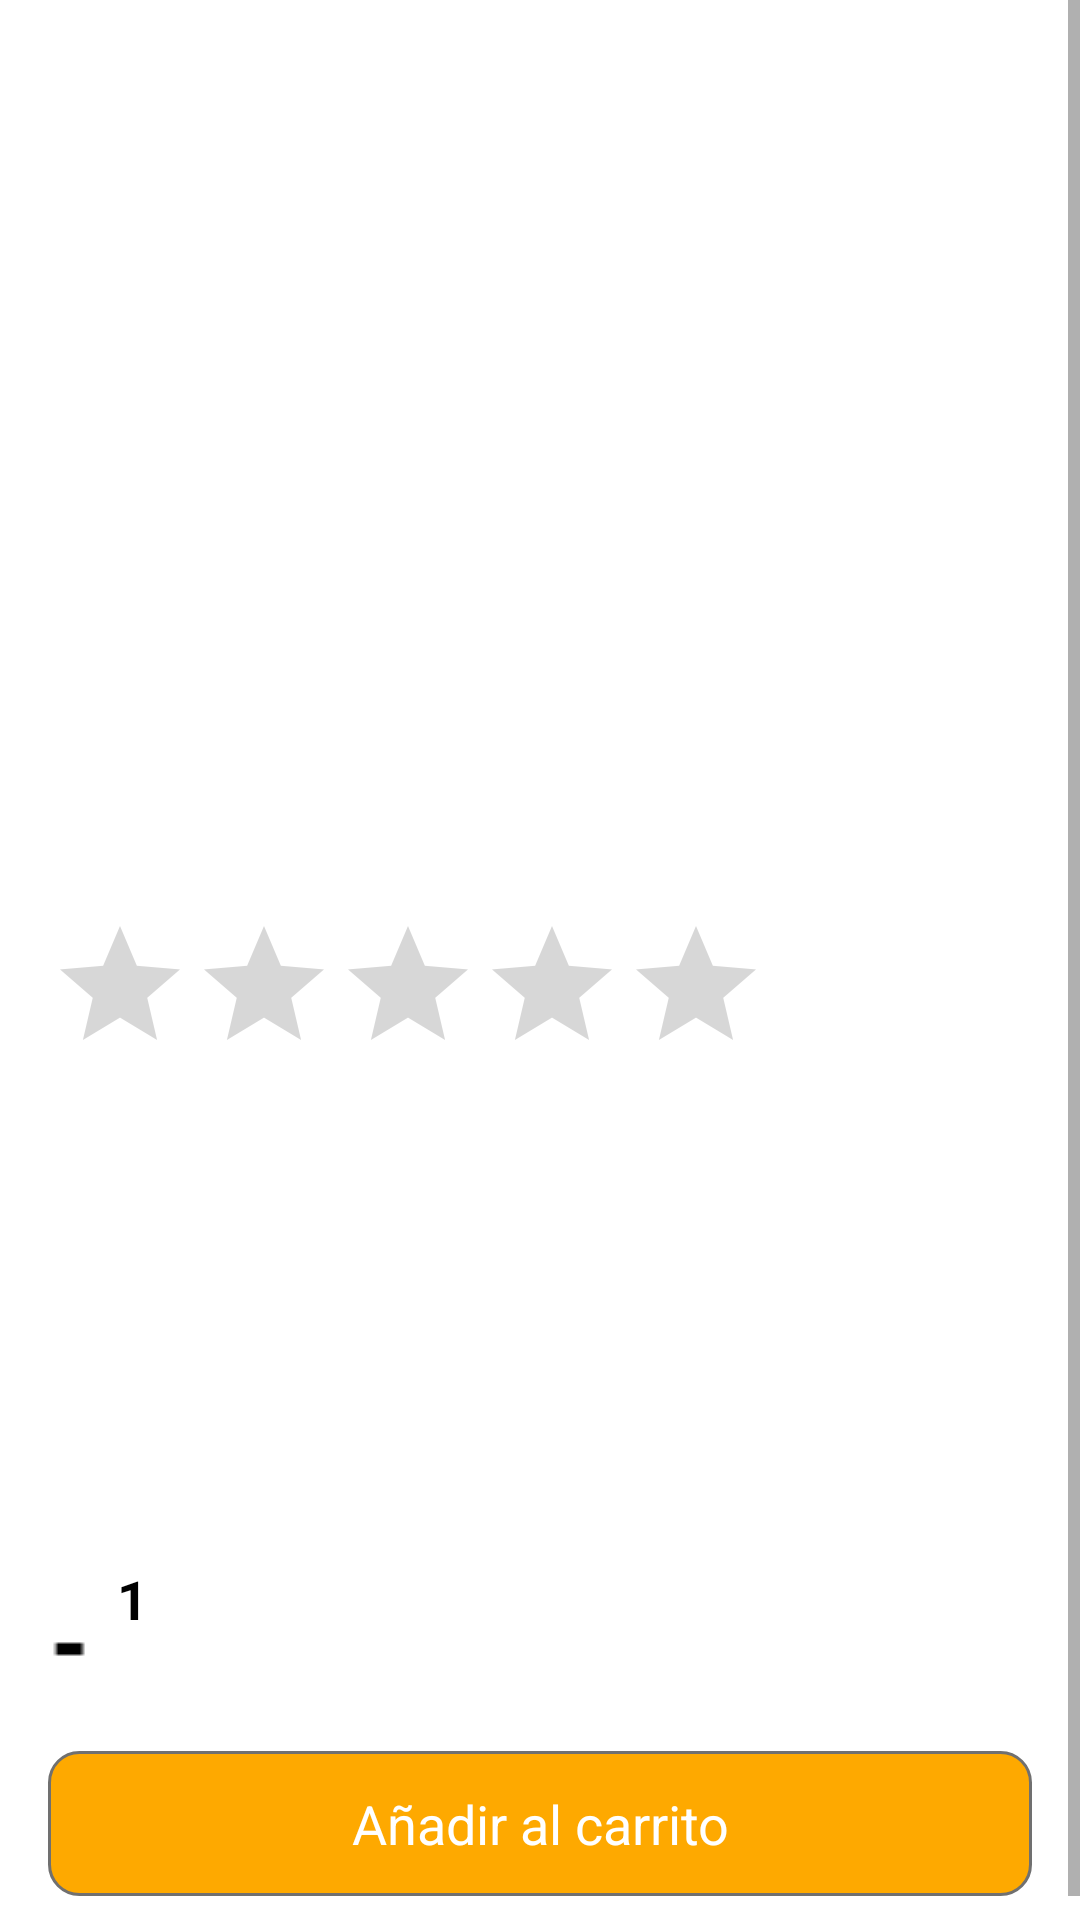

Named icons in this screenshot (1080px×1920px) and their centers, (x=x, y=y):
minus: (x=69, y=1649)
